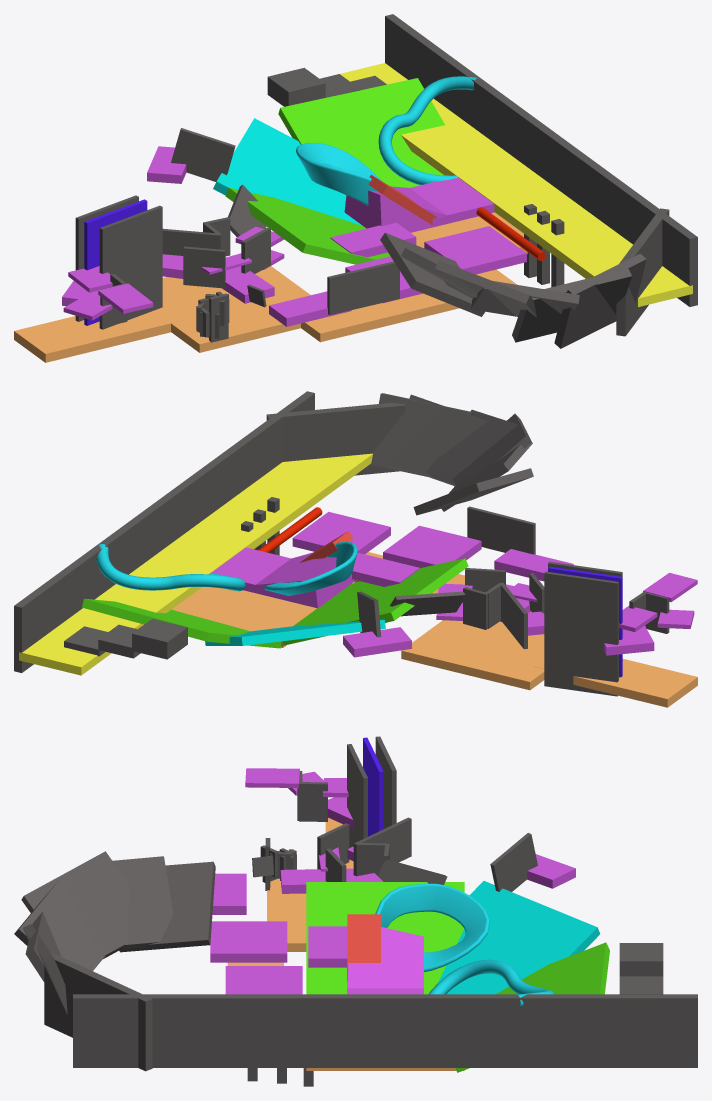
The model's file is World.glb.
3 renders of one model, top to bottom at view 1: azimuth 30°, elevation 25°; view 2: azimuth 150°, elevation 25°; view 3: azimuth 270°, elevation 25°, orthographic. The views are drawn at different scales.
Visible parts, largest first — view 1: Cube.013, Cube.006, Cube.004, Cube.005, Cube.039, Cube.041, Cube.044, Cube.003, Cube.040, Cube.025, Cube.018, BézierCurve.002 (+33 smaller); view 2: Cube.006, Cube.013, Cube.045, Cube.039, Cube.017, Cube.003, Cube.002, Cube.044, Cube.026, Cube.019, Cube.004, Cube.010 (+31 smaller); view 3: Cube.013, Cube.005, Cube.003, Cube.032, BézierCurve.002, Cube.034, Cube.017, Cube.033, Cube.014, Cube.019, Cube.031, Cube.004 (+25 smaller).
Boxes of the visible parts, x1=… form: Cube.013: x1=385, y1=14, x2=697, y2=306; Cube.006: x1=340, y1=63, x2=692, y2=307; Cube.004: x1=278, y1=78, x2=444, y2=187; Cube.005: x1=213, y1=118, x2=362, y2=225; Cube.039: x1=162, y1=266, x2=310, y2=352; Cube.041: x1=99, y1=205, x2=162, y2=329; Cube.044: x1=14, y1=305, x2=183, y2=362; Cube.003: x1=225, y1=187, x2=390, y2=264; Cube.040: x1=301, y1=269, x2=517, y2=342; Cube.025: x1=554, y1=253, x2=646, y2=348; Cube.018: x1=424, y1=226, x2=526, y2=274; BézierCurve.002: x1=296, y1=143, x2=381, y2=205; Cube.006: x1=19, y1=453, x2=372, y2=675; Cube.013: x1=14, y1=391, x2=314, y2=672; Cube.045: x1=544, y1=571, x2=618, y2=696; Cube.039: x1=401, y1=611, x2=544, y2=690; Cube.017: x1=266, y1=402, x2=405, y2=475; Cube.003: x1=283, y1=558, x2=468, y2=645; Cube.002: x1=172, y1=587, x2=316, y2=647; Cube.044: x1=534, y1=659, x2=697, y2=707; Cube.026: x1=388, y1=394, x2=488, y2=486; Cube.019: x1=383, y1=525, x2=481, y2=568; Cube.004: x1=82, y1=598, x2=280, y2=648; Cube.010: x1=467, y1=506, x2=535, y2=554; Cube.013: x1=73, y1=994, x2=697, y2=1067; Cube.005: x1=438, y1=881, x2=599, y2=994; Cube.003: x1=306, y1=882, x2=464, y2=994; Cube.032: x1=21, y1=851, x2=128, y2=958; BézierCurve.002: x1=375, y1=883, x2=489, y2=971; Cube.034: x1=119, y1=861, x2=215, y2=952; Cube.017: x1=44, y1=952, x2=152, y2=1071; Cube.033: x1=112, y1=856, x2=173, y2=949; Cube.014: x1=347, y1=927, x2=423, y2=988; Cube.019: x1=210, y1=921, x2=287, y2=962; Cube.031: x1=14, y1=878, x2=105, y2=970; Cube.004: x1=455, y1=942, x2=609, y2=1072.
Size of the model in its own units: 130 by 31.21 by 140.
